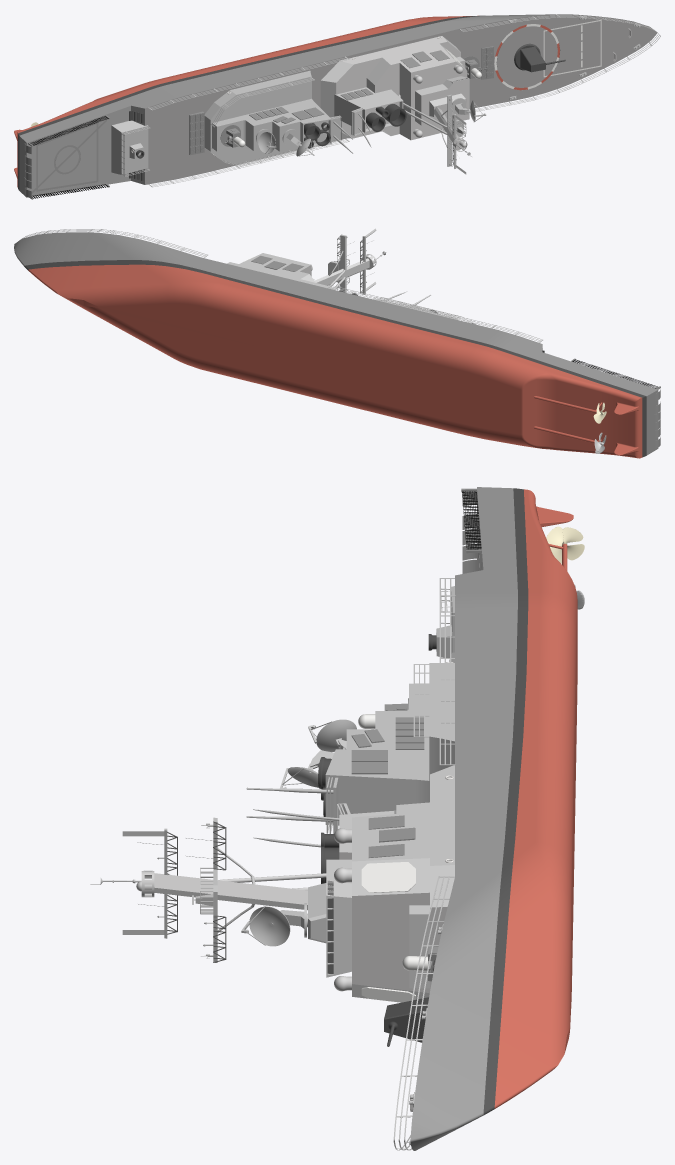
Rendered from arleigh_burke.glb.
3 views of the same model, one above another, from view 1: azimuth 30°, elevation 25°; view 2: azimuth 150°, elevation 25°; view 3: azimuth 270°, elevation 25° (orthographic). The views are drawn at different scales.
Parts seen in each view (by area): view 1: hull_top, bridge, engine_room, hull_bottom, big_box_in_the_back, hull_mid, bow_railing, mk45_mod1, left_railing, missile_launch_1, right_railing, dish_2 (+9 smaller); view 2: hull_bottom, hull_top, hull_mid, bridge, left_railing, bow_railing, tower_pt2; view 3: hull_top, hull_bottom, bridge, engine_room, hull_mid, bow_railing, dish_3, extra_4, mk45_mod1, left_railing, dish_1.
Part boxes in pixels (x1=…): hull_top: x1=19, y1=14, x2=657, y2=199; bridge: x1=320, y1=36, x2=469, y2=151; engine_room: x1=204, y1=70, x2=341, y2=163; hull_bottom: x1=14, y1=15, x2=478, y2=187; big_box_in_the_back: x1=111, y1=120, x2=148, y2=174; hull_mid: x1=18, y1=15, x2=485, y2=190; bow_railing: x1=459, y1=14, x2=660, y2=111; mk45_mod1: x1=514, y1=43, x2=565, y2=72; left_railing: x1=148, y1=56, x2=349, y2=110; missile_launch_1: x1=189, y1=111, x2=204, y2=155; right_railing: x1=148, y1=139, x2=349, y2=187; dish_2: x1=282, y1=129, x2=314, y2=156; hull_bottom: x1=28, y1=264, x2=642, y2=458; hull_top: x1=14, y1=232, x2=660, y2=455; hull_mid: x1=24, y1=260, x2=646, y2=457; bridge: x1=227, y1=253, x2=376, y2=289; left_railing: x1=326, y1=285, x2=542, y2=342; bow_railing: x1=22, y1=229, x2=207, y2=257; tower_pt2: x1=328, y1=234, x2=346, y2=292; hull_top: x1=410, y1=487, x2=517, y2=1150; hull_bottom: x1=494, y1=489, x2=577, y2=1108; bridge: x1=136, y1=765, x2=454, y2=999; engine_room: x1=325, y1=663, x2=454, y2=833; hull_mid: x1=483, y1=488, x2=528, y2=1114; bow_railing: x1=393, y1=876, x2=454, y2=1150; dish_3: x1=241, y1=903, x2=307, y2=946; extra_4: x1=361, y1=862, x2=415, y2=892; mk45_mod1: x1=384, y1=997, x2=428, y2=1046; left_railing: x1=439, y1=578, x2=455, y2=765; dish_1: x1=308, y1=719, x2=373, y2=752.
Size of the model in its own units: 6.95 by 0.8914 by 2.42.
